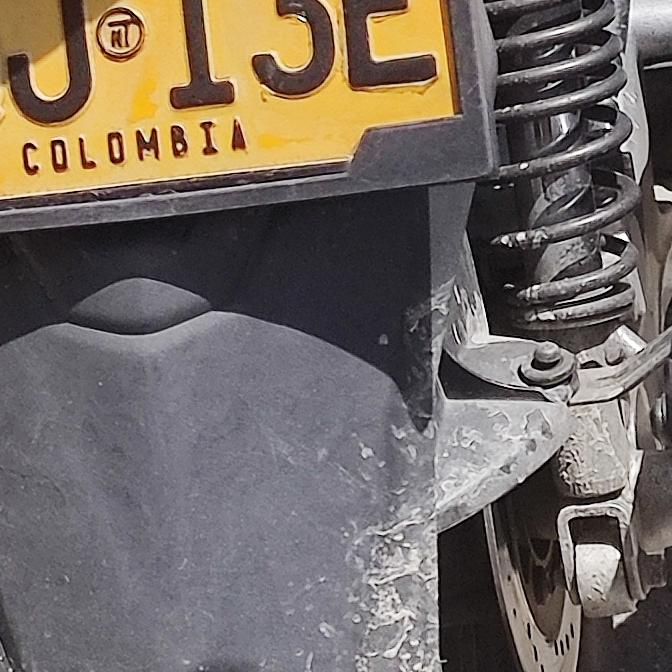plates: (0, 0, 500, 218)
